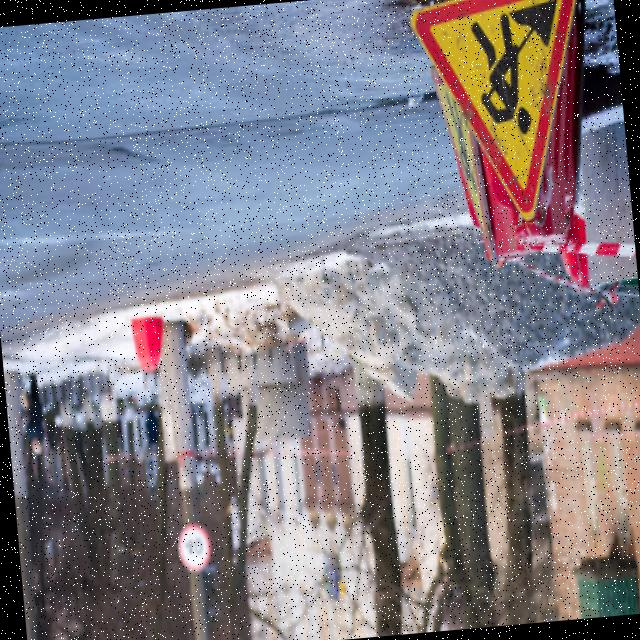road_work: (407, 0, 601, 229)
